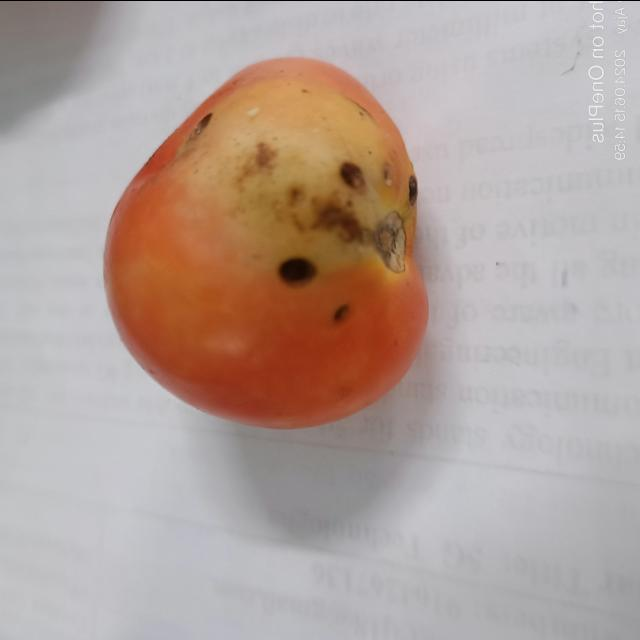fruitworm_bore: (274, 249, 359, 323), (328, 155, 374, 196)
